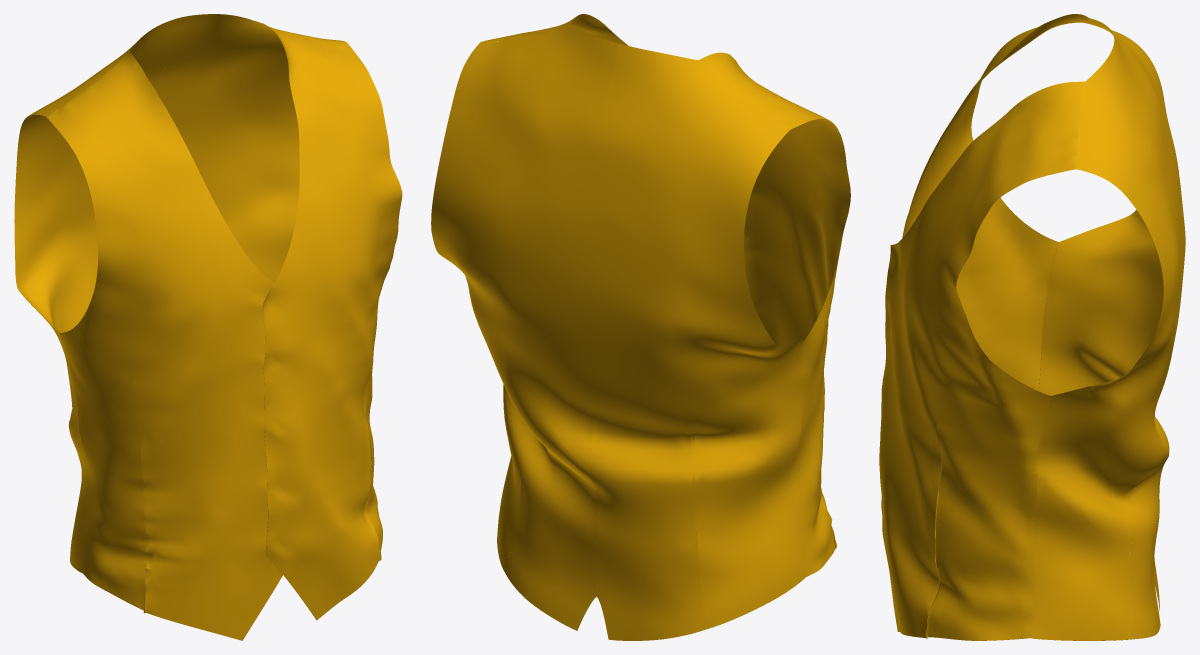
Rendered from Waistcoat_01_01._HIGH.fbx.
The picture shows the model from 3 angles, left to right: view 1: azimuth 30°, elevation 25°; view 2: azimuth 150°, elevation 25°; view 3: azimuth 270°, elevation 25°; orthographic projection. The views are drawn at different scales.
Parts seen in each view (by area): view 1: HIGH_FARBRIC; view 2: HIGH_FARBRIC; view 3: HIGH_FARBRIC.
Part boxes in pixels (x1,y1,x2,y2): HIGH_FARBRIC: (14,14,402,640); HIGH_FARBRIC: (431,14,850,640); HIGH_FARBRIC: (879,14,1185,640).
Bounding box in the file's own units: 37.67 × 60.76 × 29.29.
